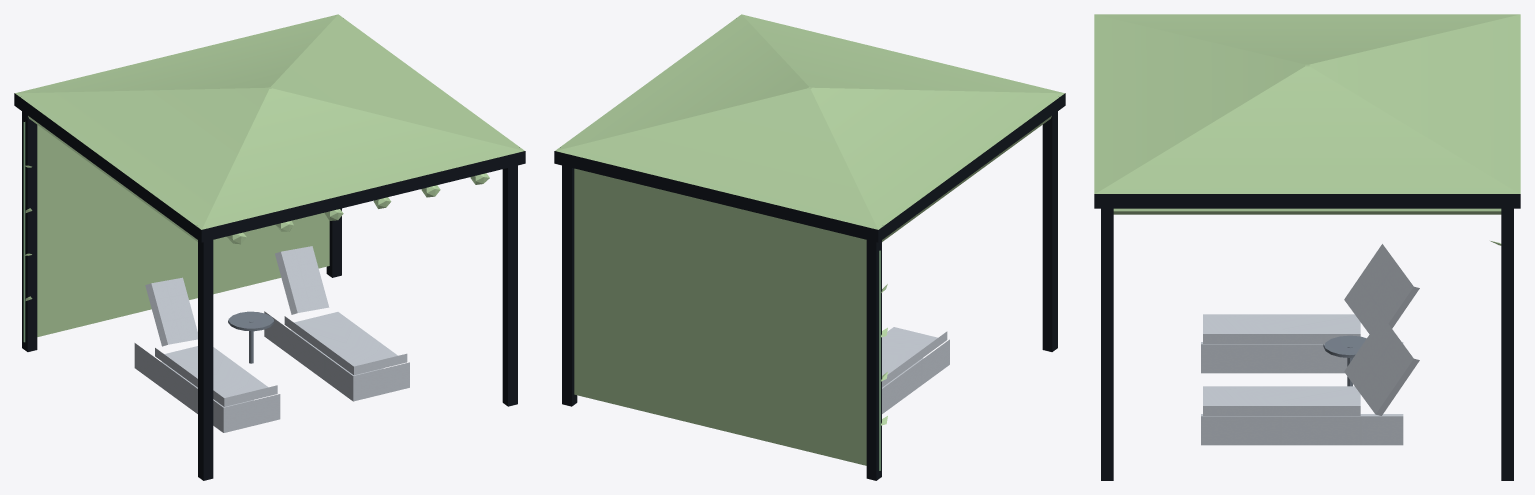
3 renders of one model, left to right at view 1: azimuth 30°, elevation 25°; view 2: azimuth 150°, elevation 25°; view 3: azimuth 270°, elevation 25°, orthographic. The views are drawn at different scales.
Parts seen in each view (by area): view 1: Fabric_Roof, Fabric_Back_Drop, Posts, Cushions, Lounger_Frame, Eave_Beams, Hanging_Foliage, Side_Table, Vine_Stem; view 2: Fabric_Back_Drop, Fabric_Roof, Posts, Eave_Beams, Cushions, Lounger_Frame; view 3: Fabric_Roof, Cushions, Lounger_Frame, Posts, Eave_Beams, Fabric_Rolls, Side_Table.
Part boxes in pixels (x1=…): Fabric_Roof: x1=15, y1=14, x2=524, y2=229; Fabric_Back_Drop: x1=37, y1=125, x2=329, y2=336; Posts: x1=22, y1=111, x2=517, y2=480; Cushions: x1=145, y1=246, x2=407, y2=406; Lounger_Frame: x1=134, y1=311, x2=409, y2=432; Eave_Beams: x1=14, y1=93, x2=525, y2=242; Hanging_Foliage: x1=227, y1=173, x2=489, y2=244; Side_Table: x1=228, y1=311, x2=274, y2=363; Vine_Stem: x1=23, y1=122, x2=25, y2=342; Fabric_Back_Drop: x1=574, y1=168, x2=866, y2=465; Fabric_Roof: x1=555, y1=14, x2=1064, y2=229; Posts: x1=562, y1=111, x2=1057, y2=480; Eave_Beams: x1=554, y1=93, x2=1065, y2=242; Cushions: x1=882, y1=327, x2=947, y2=387; Lounger_Frame: x1=882, y1=339, x2=949, y2=413; Fabric_Roof: x1=1094, y1=14, x2=1520, y2=193; Cushions: x1=1203, y1=244, x2=1419, y2=415; Lounger_Frame: x1=1201, y1=342, x2=1403, y2=445; Posts: x1=1101, y1=208, x2=1513, y2=480; Eave_Beams: x1=1094, y1=194, x2=1520, y2=208; Fabric_Rolls: x1=1113, y1=208, x2=1501, y2=214; Side_Table: x1=1323, y1=335, x2=1366, y2=386.
Size of what is drawn, in the model's own units: 4 by 3.4 by 4.
5 materials, 3 textured.
